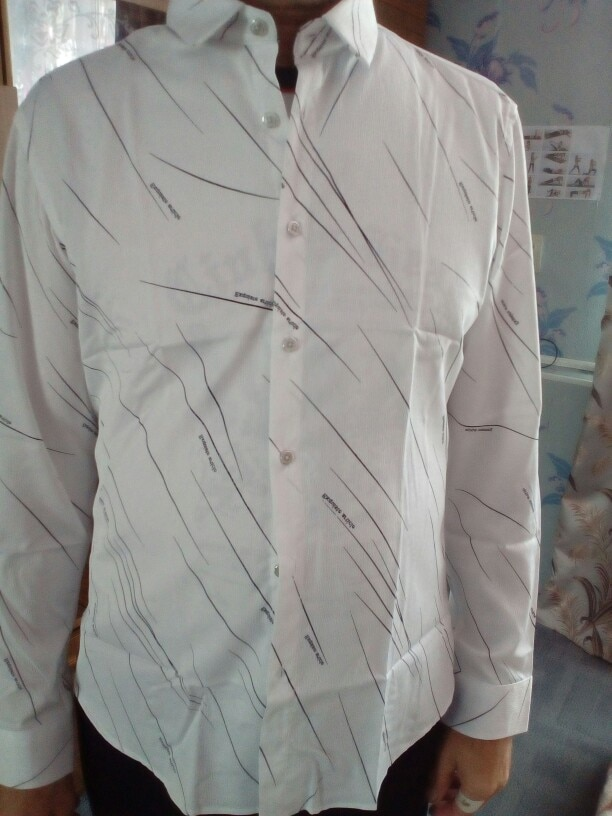shirts: (13, 30, 543, 808)
